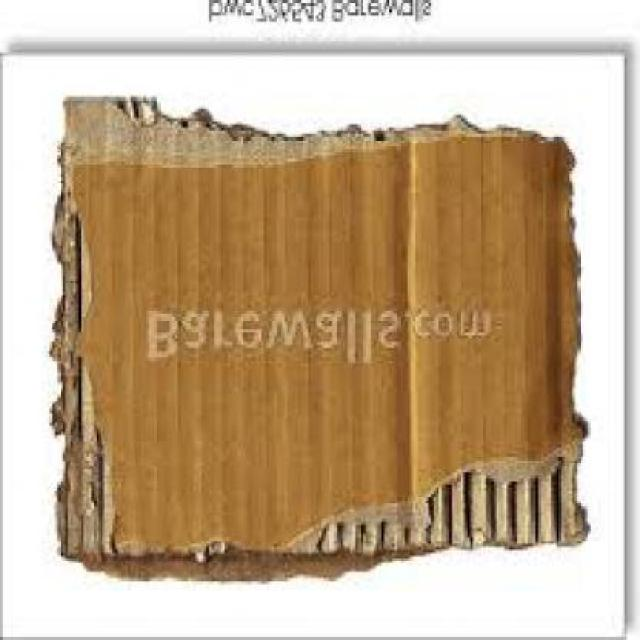CARDBOARD: (49, 99, 588, 584)
